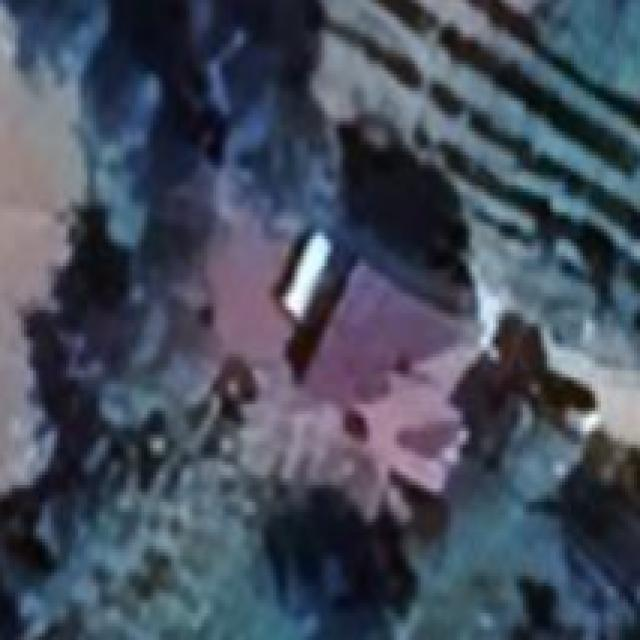Batiment: (305, 263, 478, 491)
